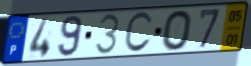3: (94, 12, 122, 57)
4: (27, 16, 52, 60)
7: (197, 8, 222, 51)
9: (56, 15, 84, 59)
C: (122, 10, 155, 55)
O: (161, 9, 194, 53)
